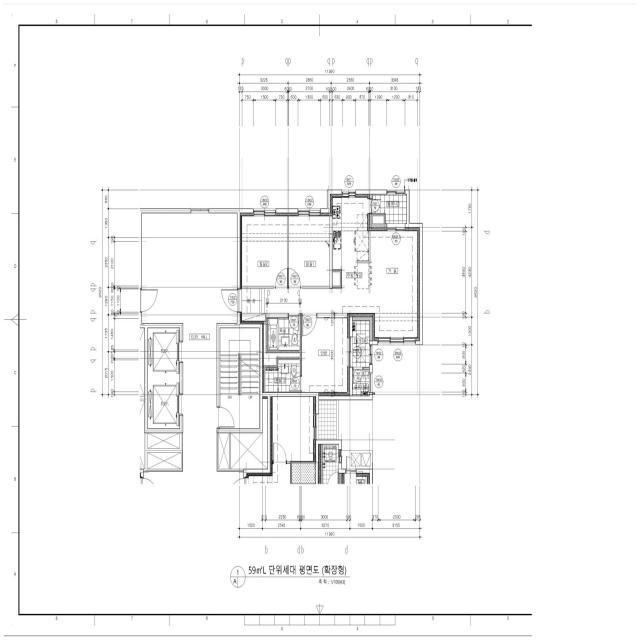space_balconi: (372, 195, 407, 223), (353, 321, 369, 367)
space_bedroom: (302, 318, 350, 396), (240, 213, 287, 286), (289, 213, 330, 286)
space_elevator: (148, 378, 180, 429), (148, 328, 180, 378)
space_elevator_hall: (142, 213, 237, 472)
space_front: (240, 289, 265, 324)
space_kitchen: (330, 194, 371, 288)
space_living_room: (265, 228, 419, 341)
space_other: (231, 397, 267, 469), (262, 323, 300, 365), (147, 452, 181, 469), (147, 433, 180, 449), (219, 433, 229, 469), (333, 272, 340, 286), (373, 216, 384, 224)
space_staircase: (220, 328, 259, 429)
space_toilet: (265, 359, 300, 392), (268, 318, 300, 351)
